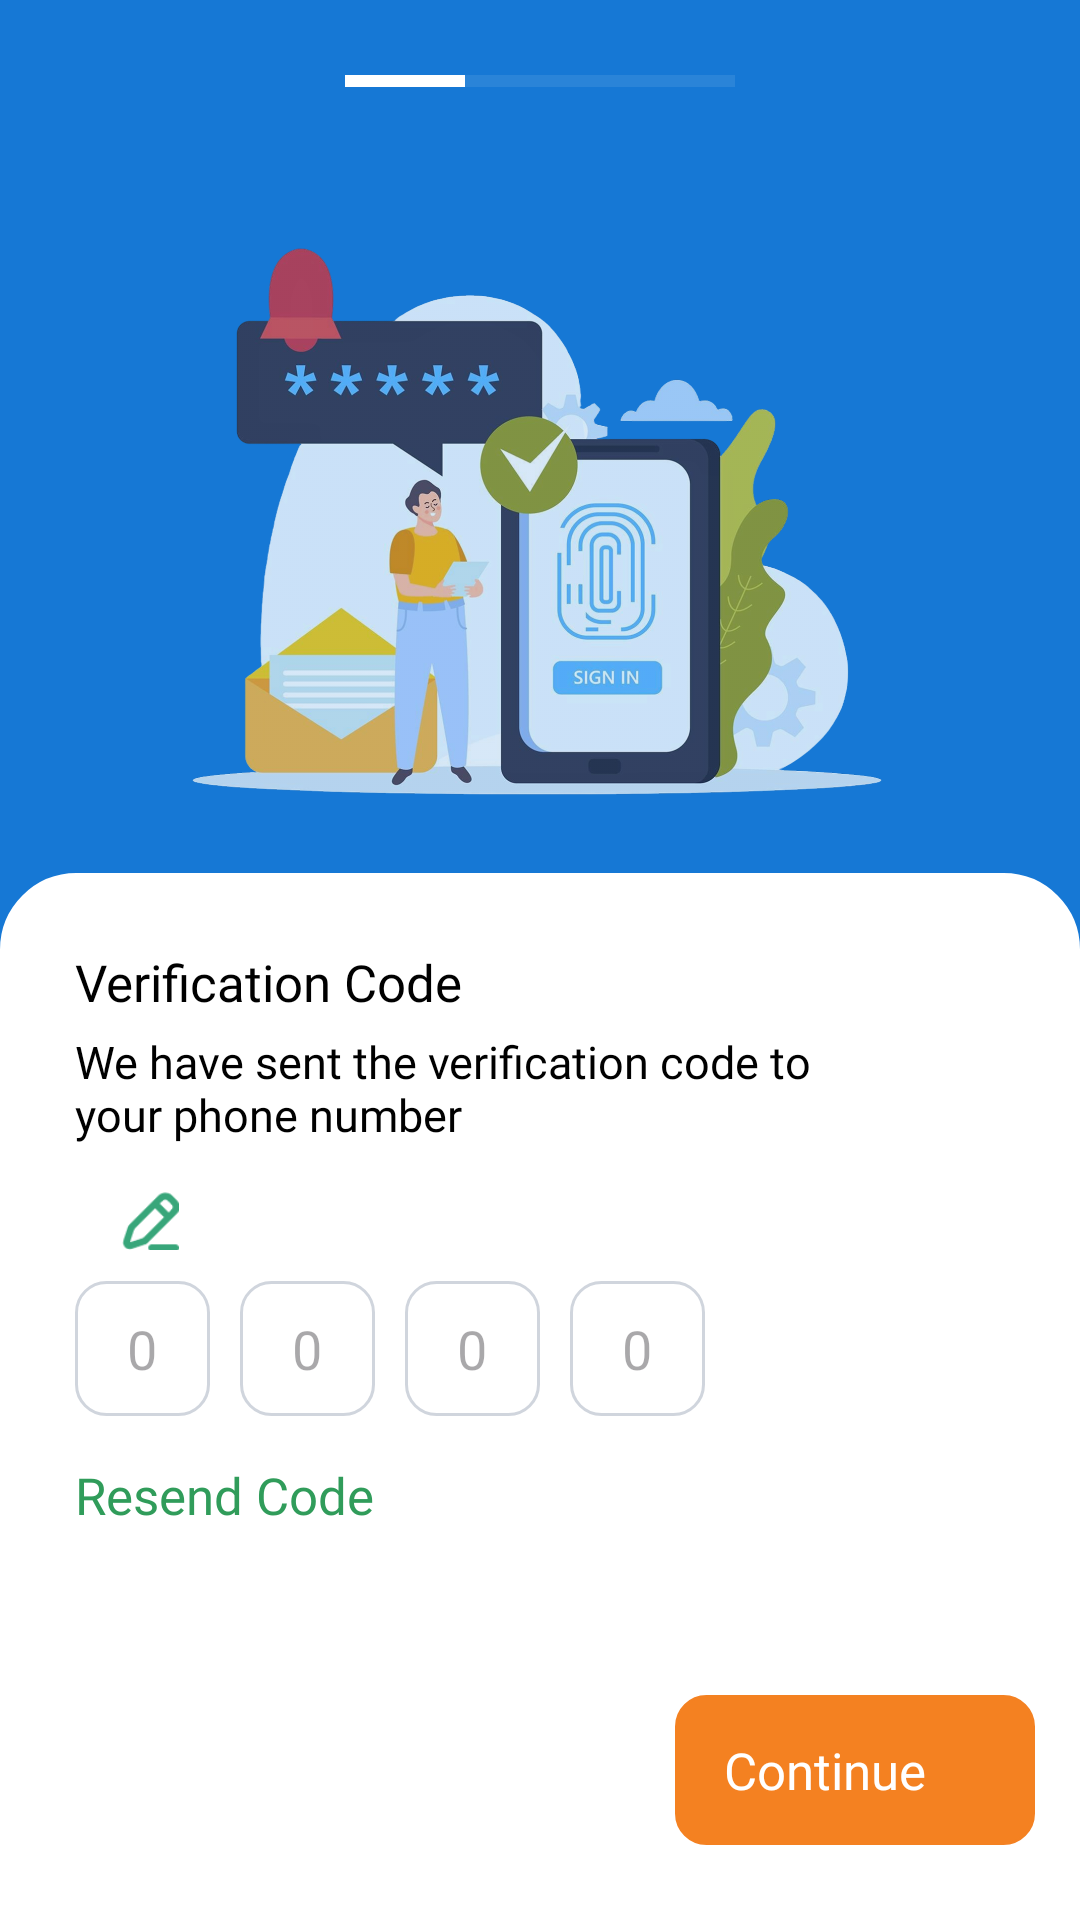

Screen size 1080x1920. Icon name, then its box in pixels as box(x1, y1, x2, y2):
edit: box(122, 1192, 179, 1250)
